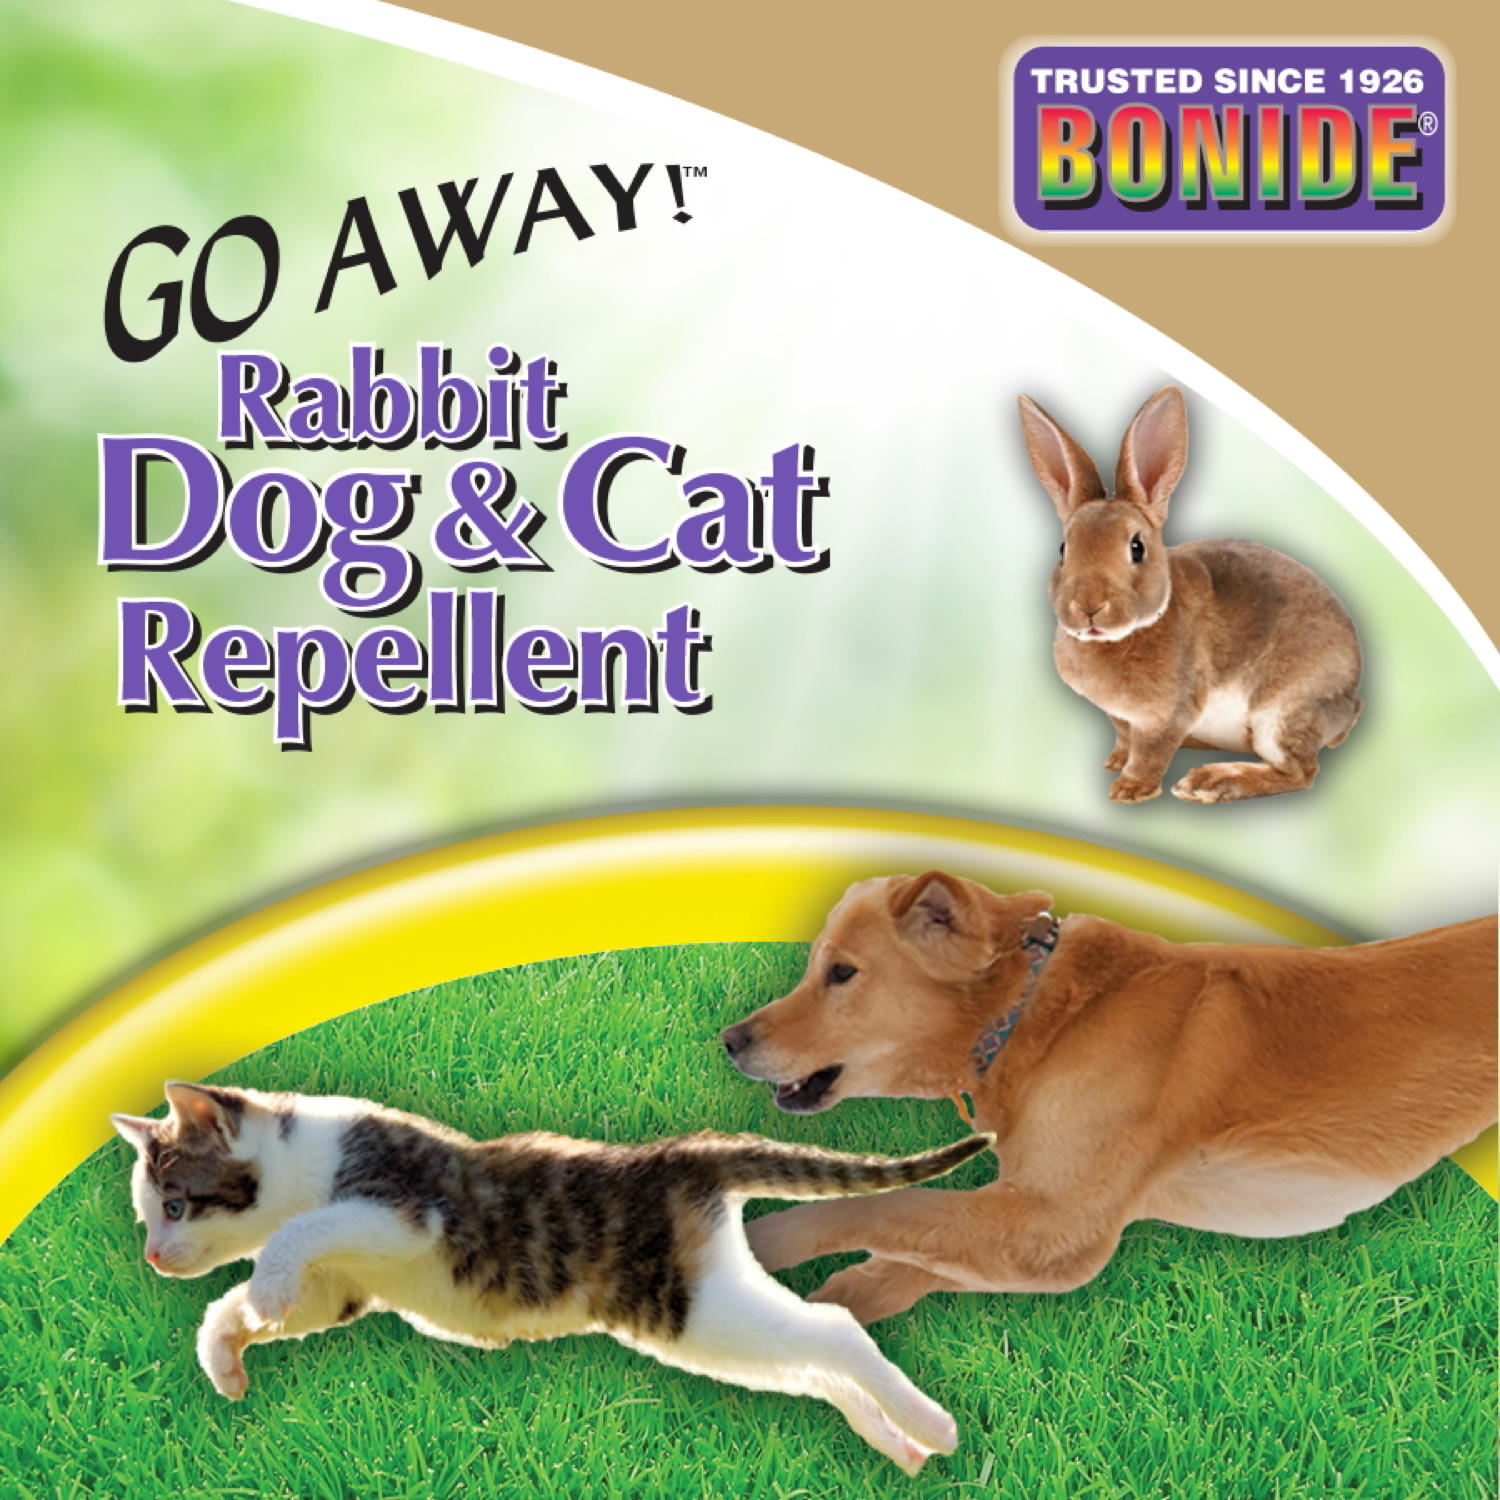cat: (80, 1038, 842, 1413)
dog: (757, 861, 1326, 1168)
rabbit: (1030, 371, 1341, 843)
